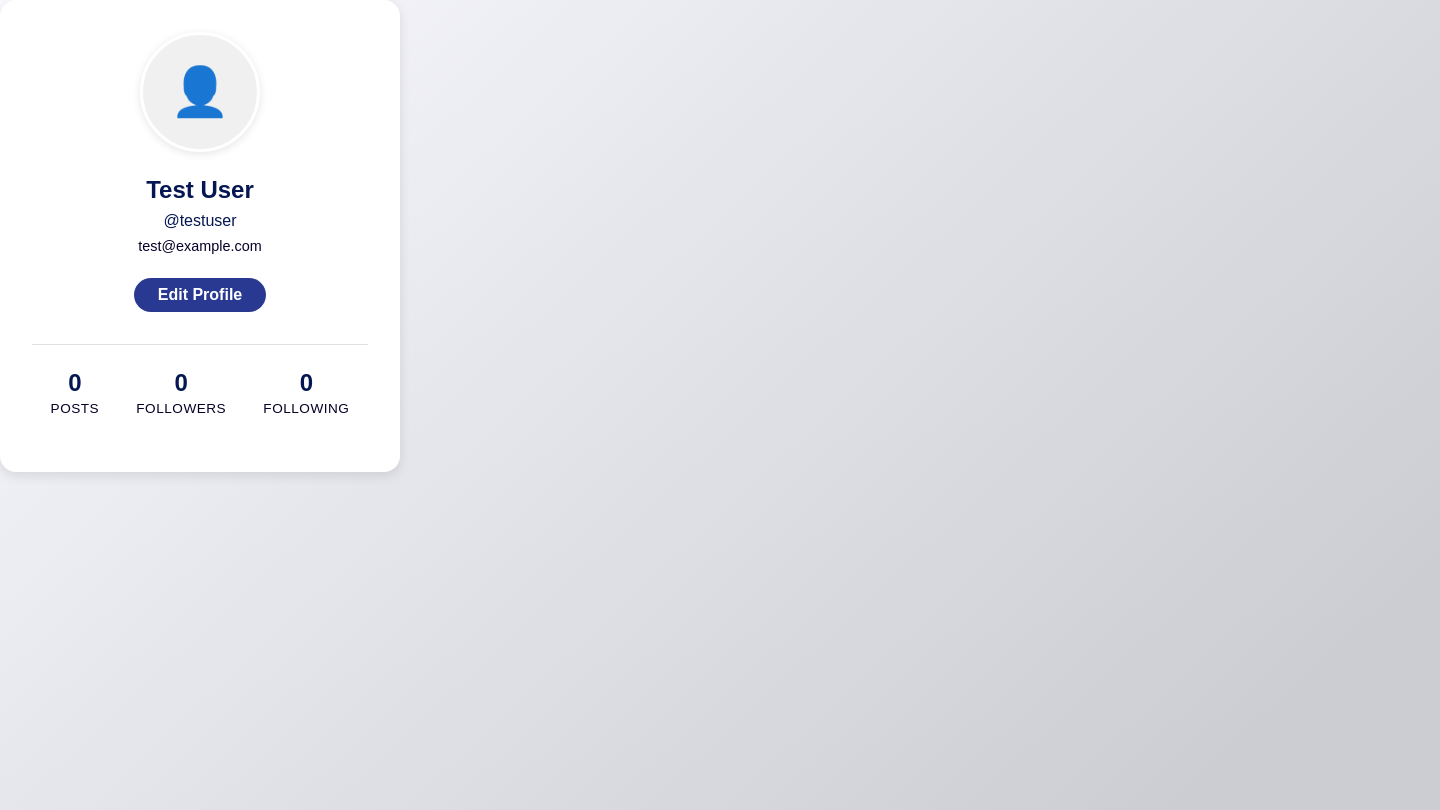
it: ProfileCard › opens edit profile modal when edit button is clicked
The image size is (1440, 810).
Click the button "Edit Profile".
click(200, 295)  # box [134, 278, 266, 312]
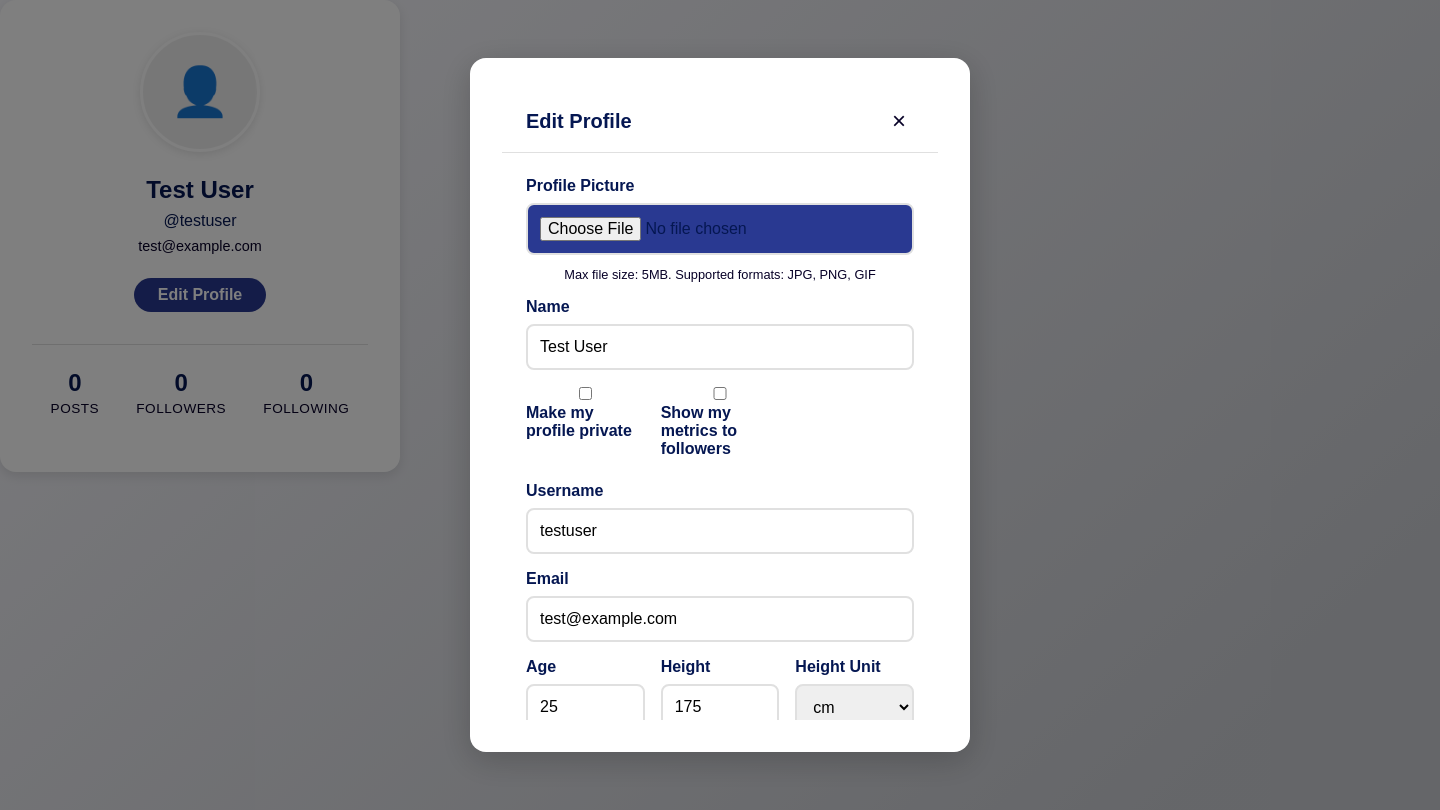
Expected: the heading "Edit Profile" is shown, [526, 110, 632, 132]
